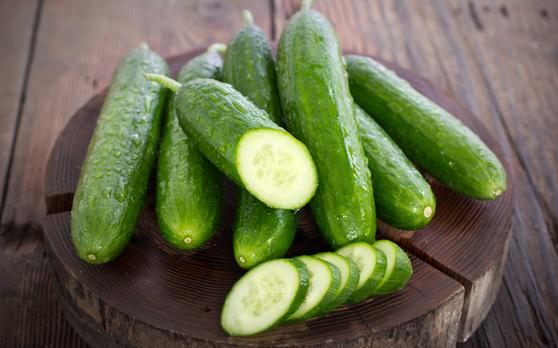cucumber: (275, 9, 387, 244), (75, 44, 171, 271)
